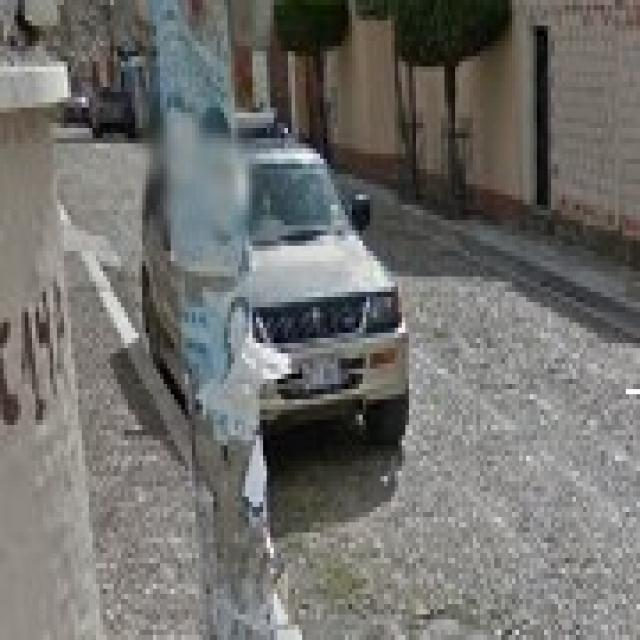truck: (226, 124, 419, 458)
